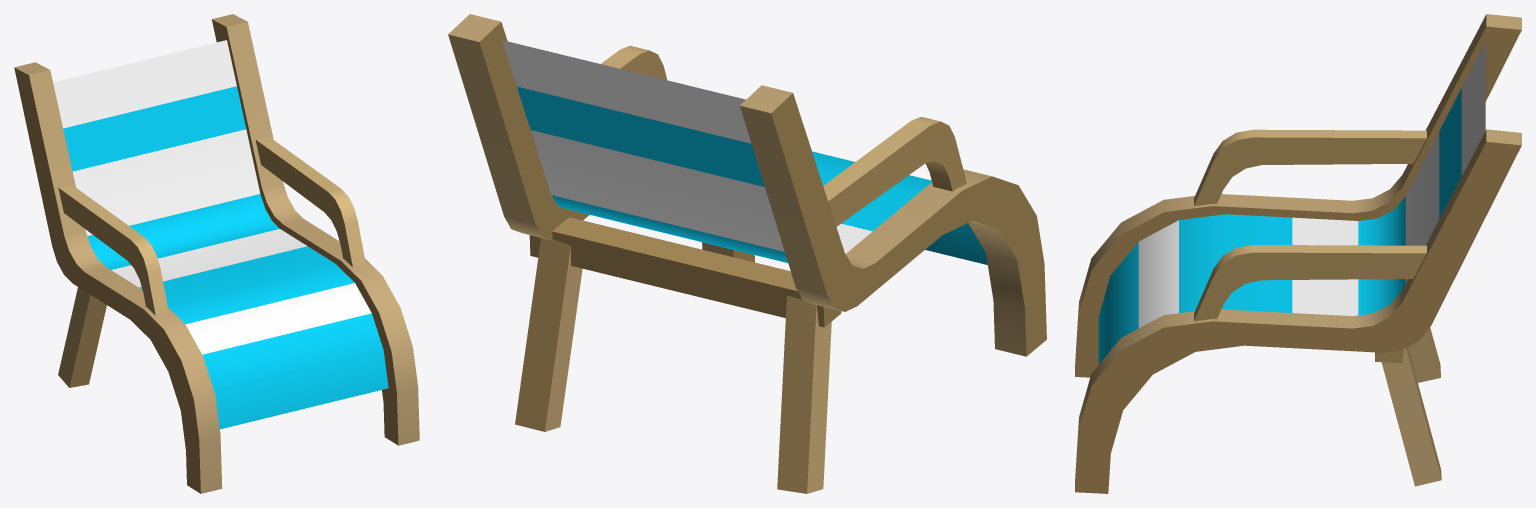
File: ghe.fbx
3 renders of one model, left to right at view 1: azimuth 30°, elevation 25°; view 2: azimuth 150°, elevation 25°; view 3: azimuth 270°, elevation 25°, orthographic. The views are drawn at different scales.
Visible parts, largest first — view 1: ghe; view 2: ghe; view 3: ghe.
Boxes of the visible parts, left/top/right/bottom form: ghe: left=14, top=14, right=419, bottom=493; ghe: left=448, top=14, right=1046, bottom=493; ghe: left=1075, top=14, right=1521, bottom=493.
Size of the model in its own units: 236 by 303 by 348.
